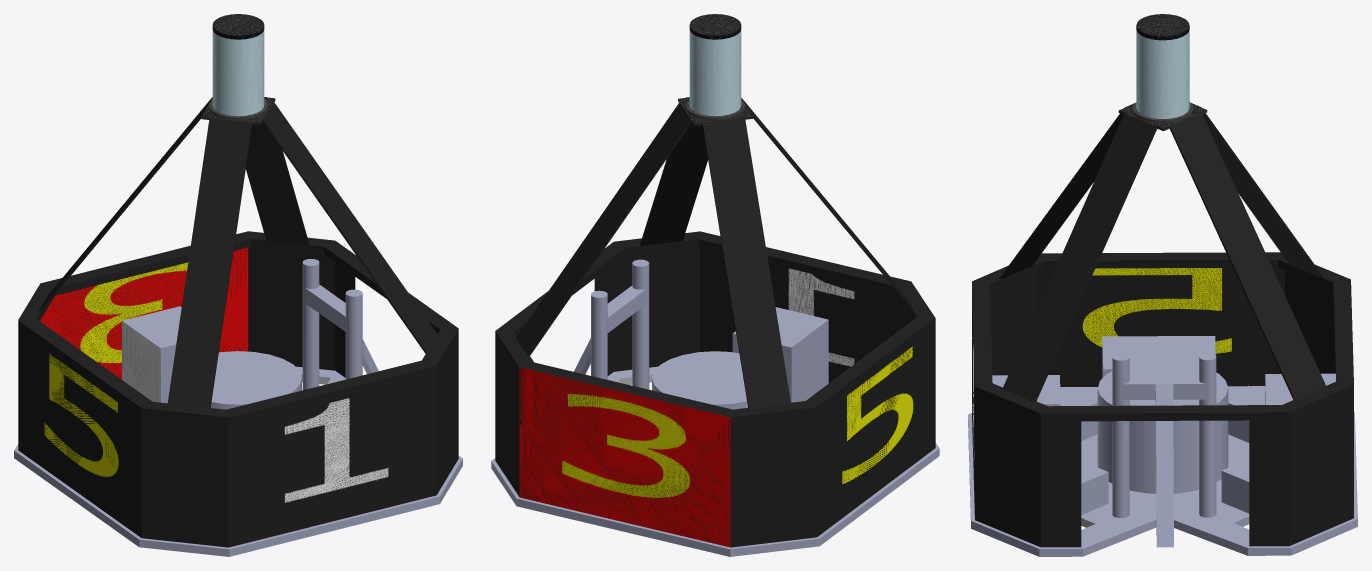
Rendered from nubot_frame1.dae.
3 renders of one model, left to right at view 1: azimuth 30°, elevation 25°; view 2: azimuth 150°, elevation 25°; view 3: azimuth 270°, elevation 25°, orthographic. The views are drawn at different scales.
Visible parts, largest first — view 1: SketchUp (×9), 支撑2, 支撑3, 摄像头 (×2), 支撑4, 射门, 支撑; view 2: SketchUp (×9), 支撑, 支撑4, 摄像头 (×2), 支撑3, 射门, 支撑2; view 3: SketchUp (×15), 支撑3, 支撑4, 射门 (×2), 摄像头 (×2), 支撑2, 支撑.
Boxes of the visible parts, x1,y1,x2,y2 form: SketchUp (×9): (14,231,462,556); 支撑2: (167,118,252,408); 支撑3: (262,102,438,354); 摄像头 (×2): (212,14,264,116); 支撑4: (246,122,309,245); 射门: (302,259,362,390); 支撑: (38,97,212,312); SketchUp (×9): (491,231,939,556); 支撑: (702,117,790,408); 支撑4: (516,102,691,356); 摄像头 (×2): (689,14,741,116); 支撑3: (640,122,708,245); 射门: (591,259,649,389); 支撑2: (741,98,914,310); SketchUp (×15): (968,252,1357,556); 支撑3: (1002,113,1157,401); 支撑4: (1169,113,1326,400); 射门 (×2): (1112,353,1216,547); 摄像头 (×2): (1136,14,1189,118); 支撑2: (999,107,1124,279); 支撑: (1191,103,1323,277).
Size of the model in its own units: 18.15 by 17.68 by 22.48.
